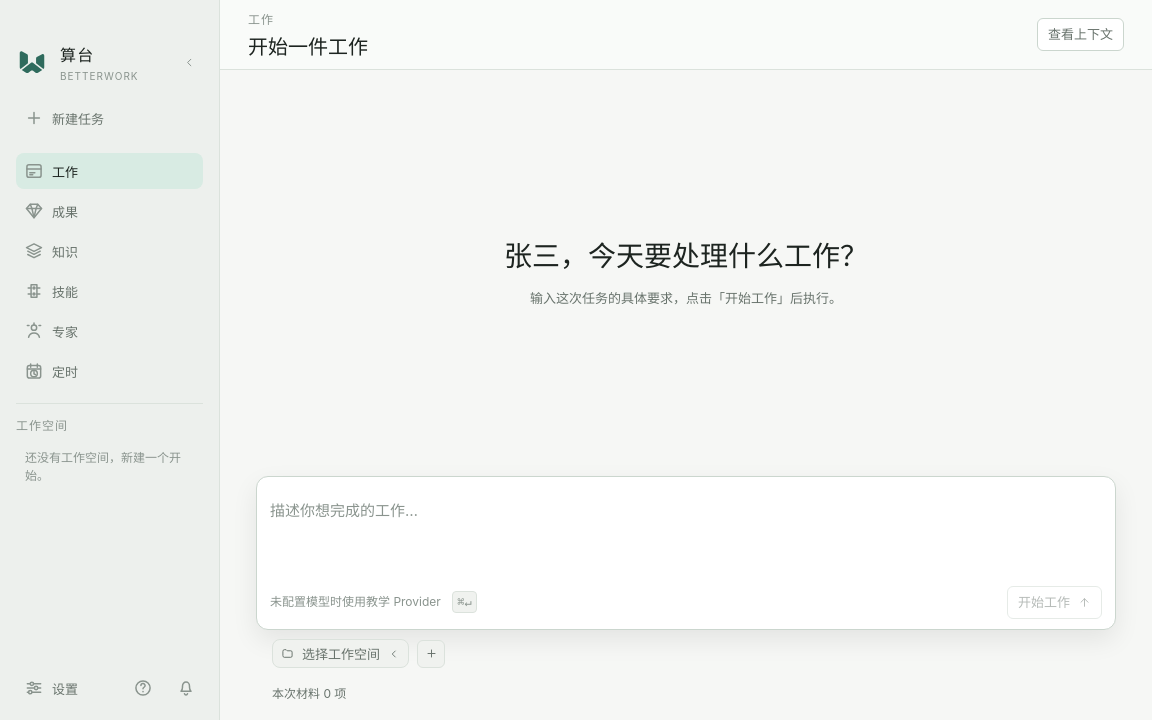
Test case: Skill test run in the task composer › opens an empty focused draft and starts only after explicit submission with the Skill binding
Step 1. Click the button "技能" → click(110, 291), box [16, 273, 203, 309]
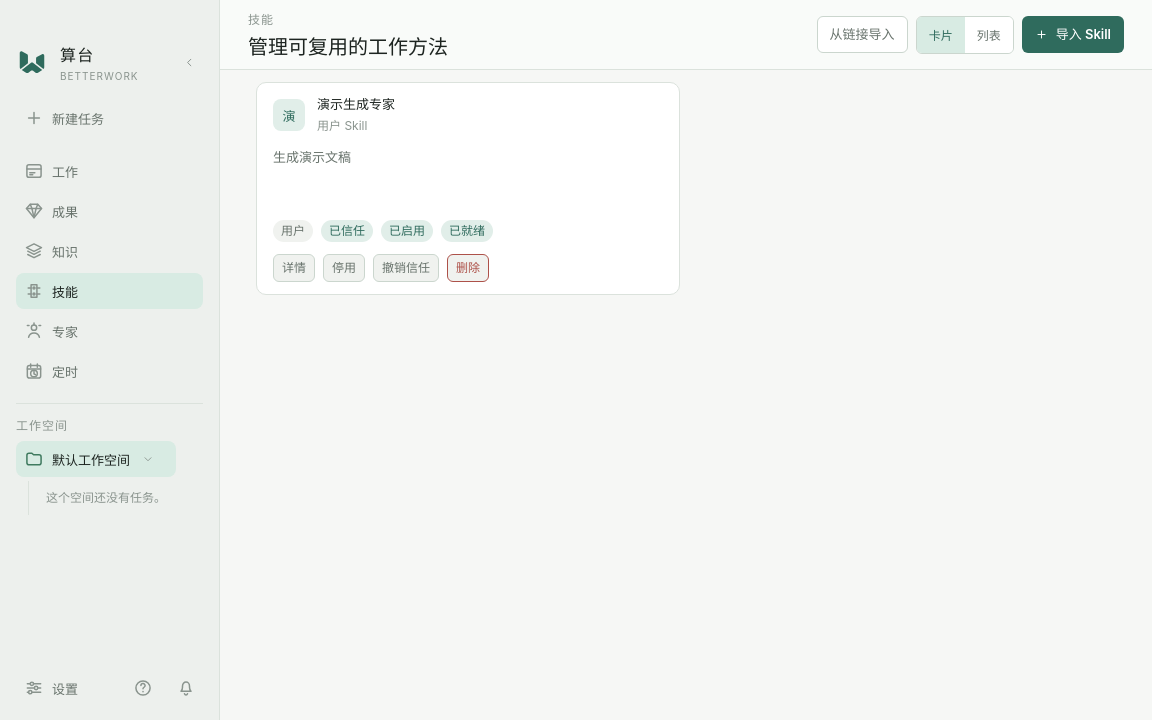
Step 2. Click the button "演 演示生成专家 用户 Skill 生成演示文稿" → click(289, 115), box [273, 95, 663, 208]
(page scrolled)
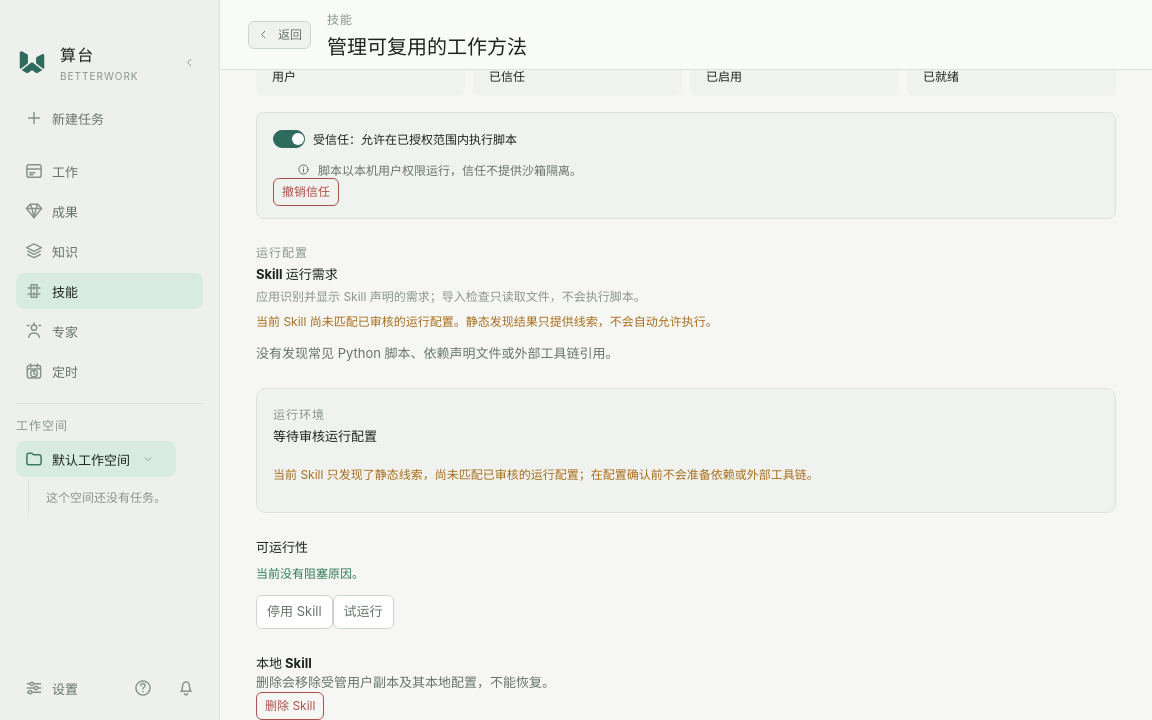
Step 3. Click the button "试运行" → click(363, 612), box [333, 595, 394, 629]
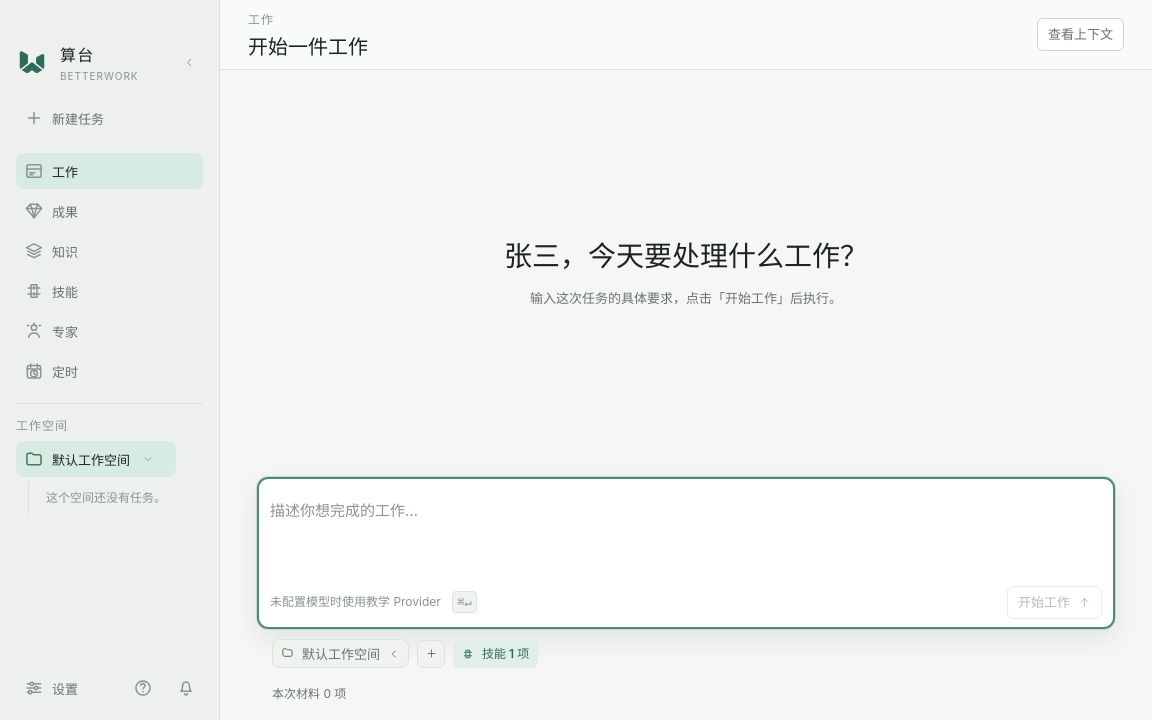
Expected: the text box named "任务输入" is empty
Expected: the button "技能 1 项" is shown, [453, 640, 538, 668]
Expected: the button "开始工作" is disabled, [1007, 586, 1102, 619]
Step 4. Press Enter in the text box named "任务输入", box [270, 488, 1102, 582]
Step 5. Type "使用「中电金信」模板，生成两页演示文稿——封面 + 一页内容页。" into the text box named "任务输入" → (686, 534), box [270, 488, 1102, 582]
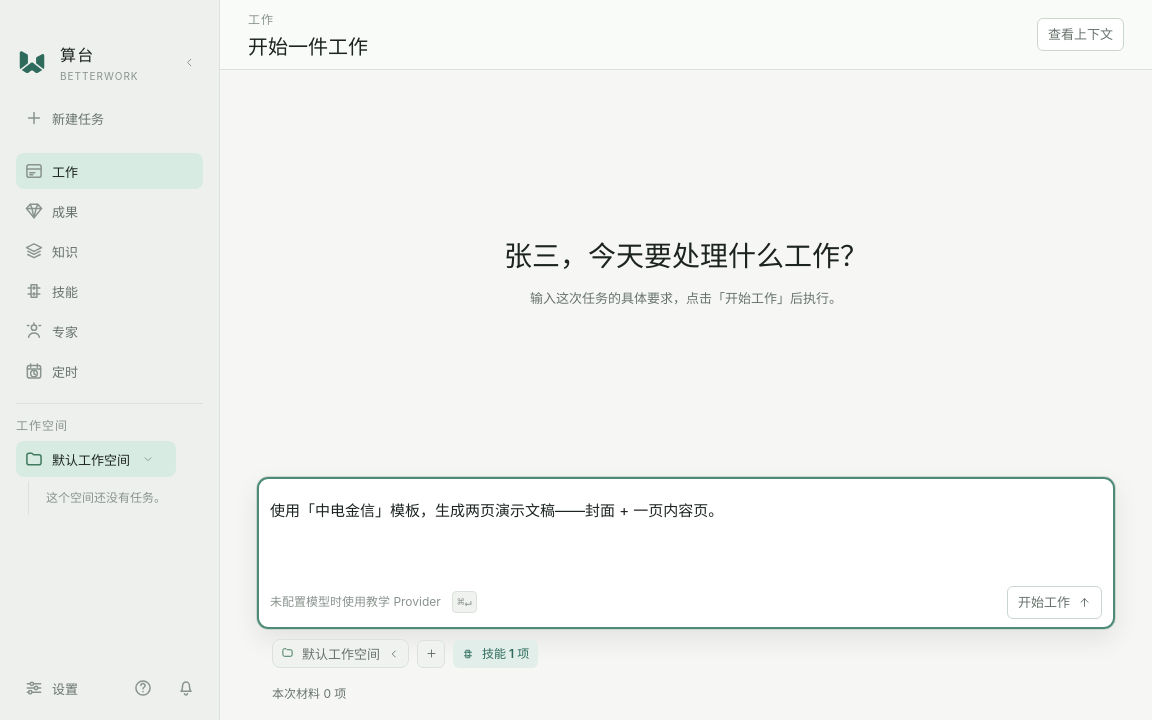
Step 6. Click the button "开始工作" → click(1054, 602), box [1007, 586, 1102, 619]
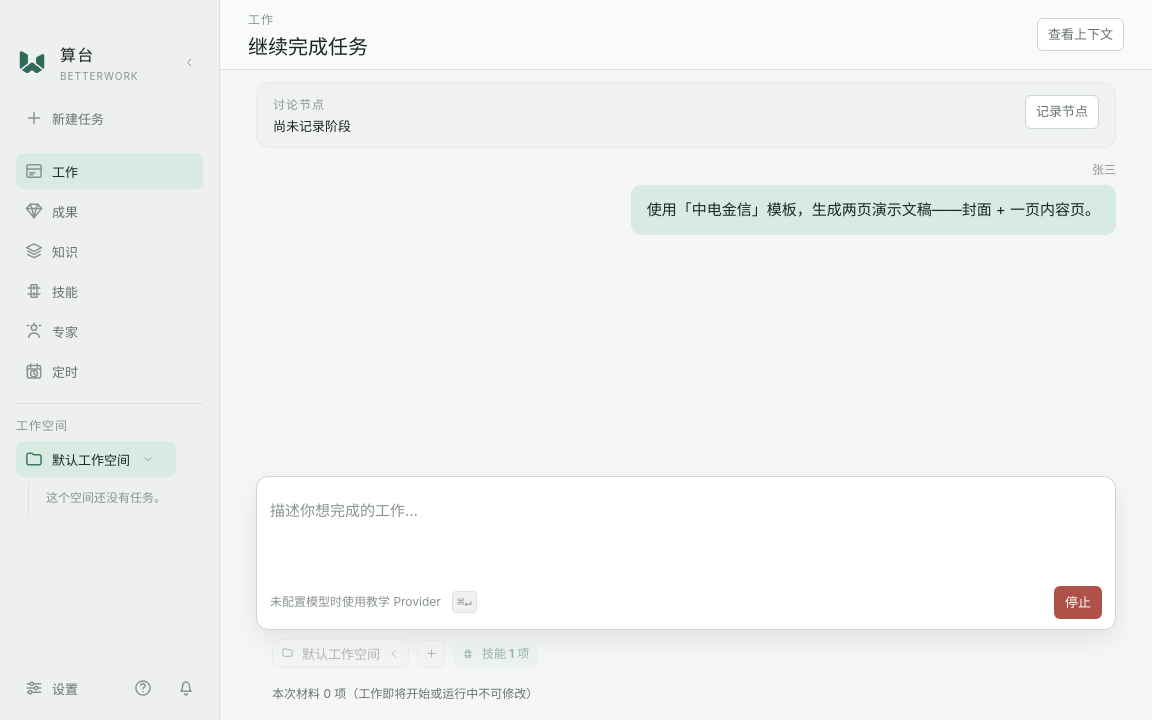
Expected: the text "使用「中电金信」模板，生成两页演示文稿——封面 + 一页内容页。" is shown, [631, 185, 1116, 234]
